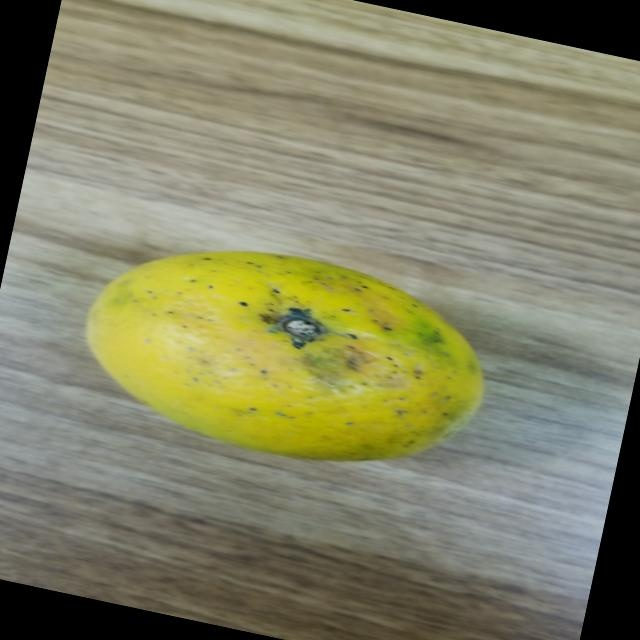agrume: (51, 206, 509, 511)
